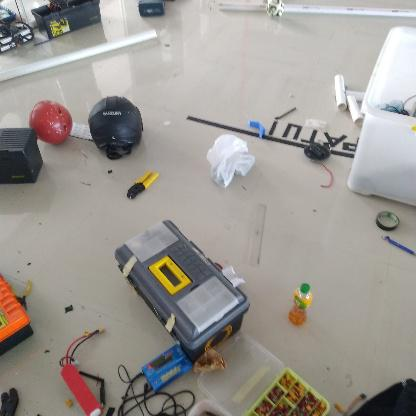red_buoy: (28, 98, 74, 148)
